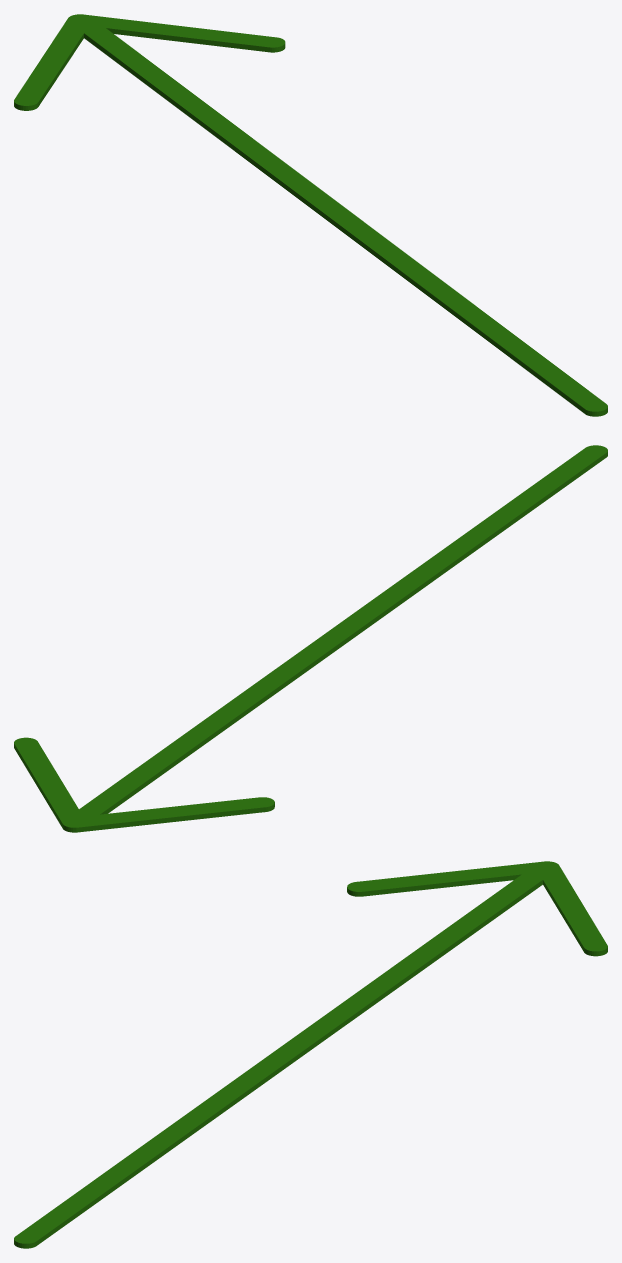
File: start_arrow.dae
3 renders of one model, top to bottom at view 1: azimuth 30°, elevation 25°; view 2: azimuth 150°, elevation 25°; view 3: azimuth 330°, elevation 25°, orthographic. The views are drawn at different scales.
Visible parts, largest first — view 1: Circle; view 2: Circle; view 3: Circle.
Boxes of the visible parts, left/top/right/bottom form: Circle: left=14, top=14, right=607, bottom=416; Circle: left=14, top=445, right=607, bottom=832; Circle: left=14, top=861, right=607, bottom=1248.
Size of the model in its own units: 3.08 by 10.76 by 0.0551.
